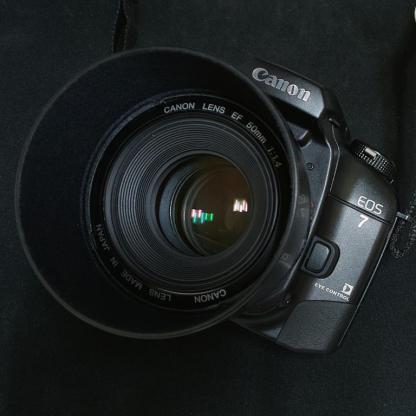Camera: (15, 47, 410, 361)
